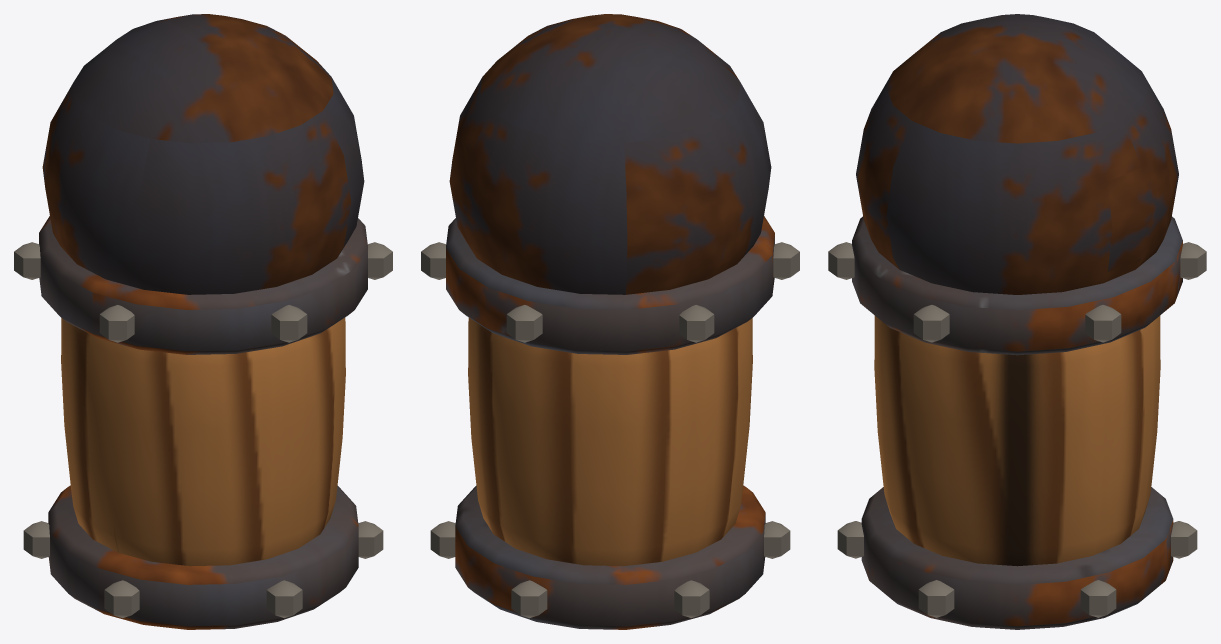
The model's file is UpperArm_L.glb.
The picture shows the model from 3 angles, left to right: view 1: azimuth 30°, elevation 25°; view 2: azimuth 150°, elevation 25°; view 3: azimuth 270°, elevation 25°; orthographic projection.
Parts seen in each view (by area): view 1: UpperArm_L; view 2: UpperArm_L; view 3: UpperArm_L.
Part boxes in pixels (x1=…): UpperArm_L: x1=14, y1=14, x2=392, y2=629; UpperArm_L: x1=421, y1=14, x2=799, y2=629; UpperArm_L: x1=828, y1=14, x2=1206, y2=629.
Size of the model in its own units: 0.174 by 0.313 by 0.1991.
Materials: 4 (3 with a texture image).
